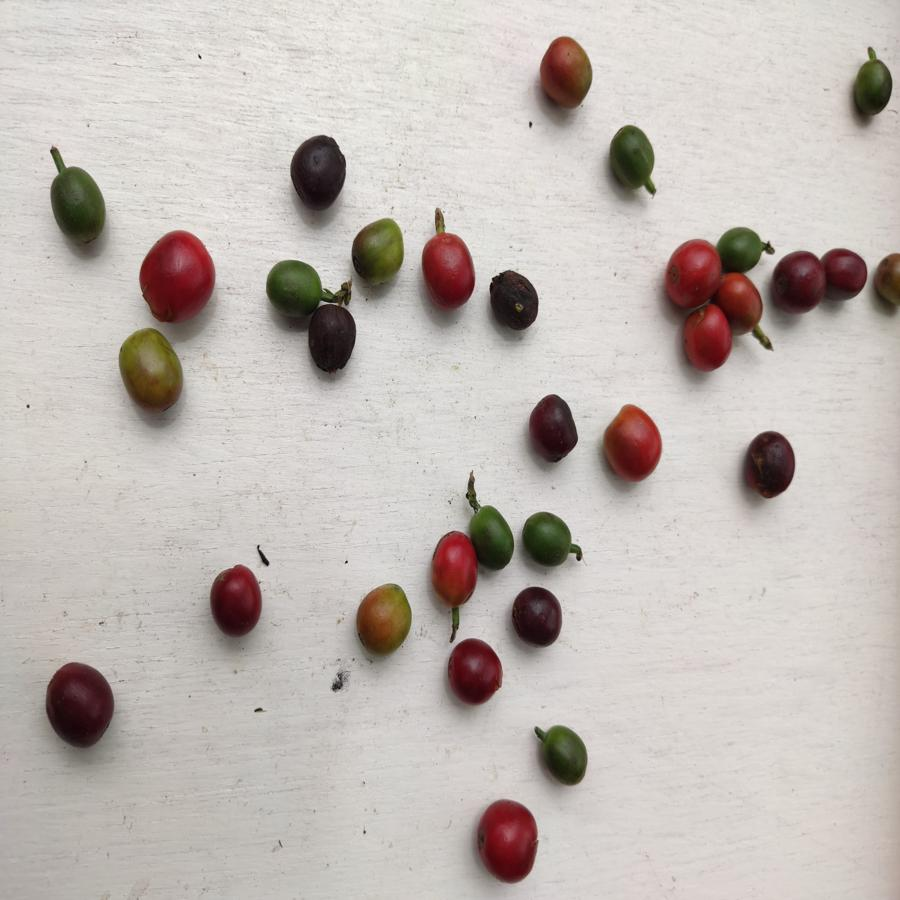Inmaduro: (42, 165, 108, 244), (606, 121, 663, 191), (263, 257, 323, 314), (519, 510, 580, 566), (539, 725, 591, 788), (475, 496, 515, 571), (853, 55, 893, 120), (722, 225, 764, 269)
Maduro: (138, 227, 215, 324), (472, 797, 538, 886), (597, 402, 665, 480), (418, 229, 475, 308), (677, 303, 735, 377), (664, 237, 720, 310), (428, 530, 480, 605), (720, 271, 764, 334)
Pinton: (115, 330, 187, 416), (348, 214, 406, 290), (354, 582, 412, 655), (540, 36, 596, 111), (873, 245, 900, 317)
Sobremaduro: (43, 659, 117, 748), (284, 130, 347, 212), (208, 562, 266, 640), (441, 635, 502, 706), (526, 391, 578, 467), (486, 265, 544, 333), (742, 429, 796, 500), (309, 302, 359, 375), (774, 250, 826, 317), (511, 585, 562, 653), (824, 243, 870, 302)
